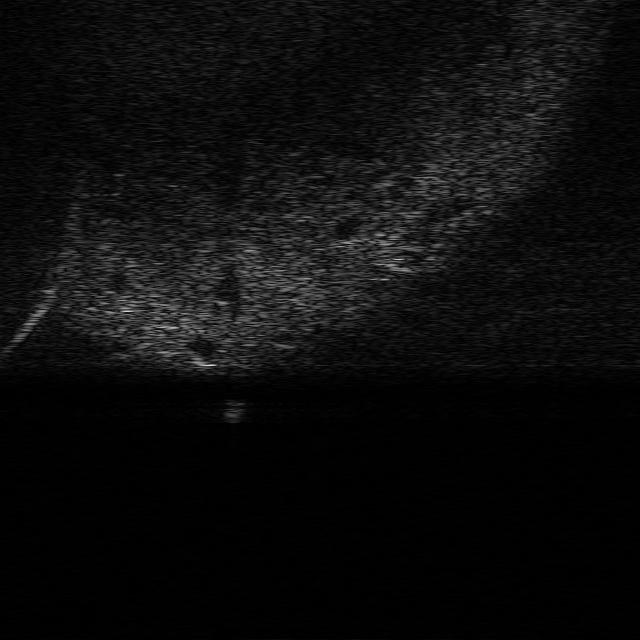cylinder: (219, 398, 249, 426)
